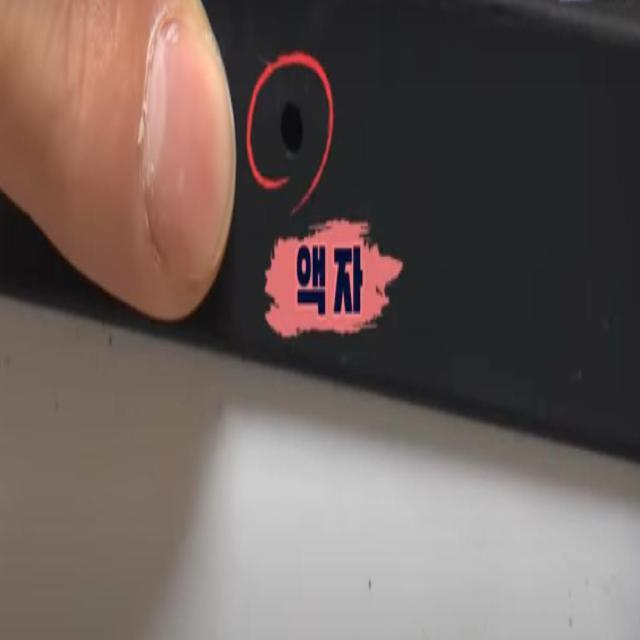hidden camera: (279, 94, 306, 167)
